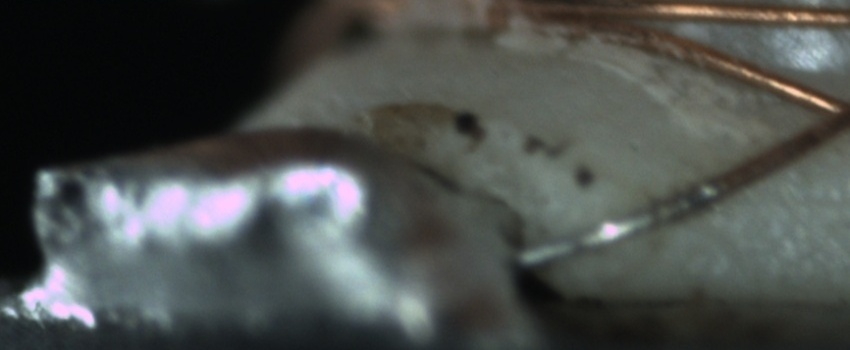CL: (799, 81, 849, 146)
DL: (741, 184, 849, 229)
TS: (516, 183, 720, 271)
TTCW: (520, 155, 764, 271)
